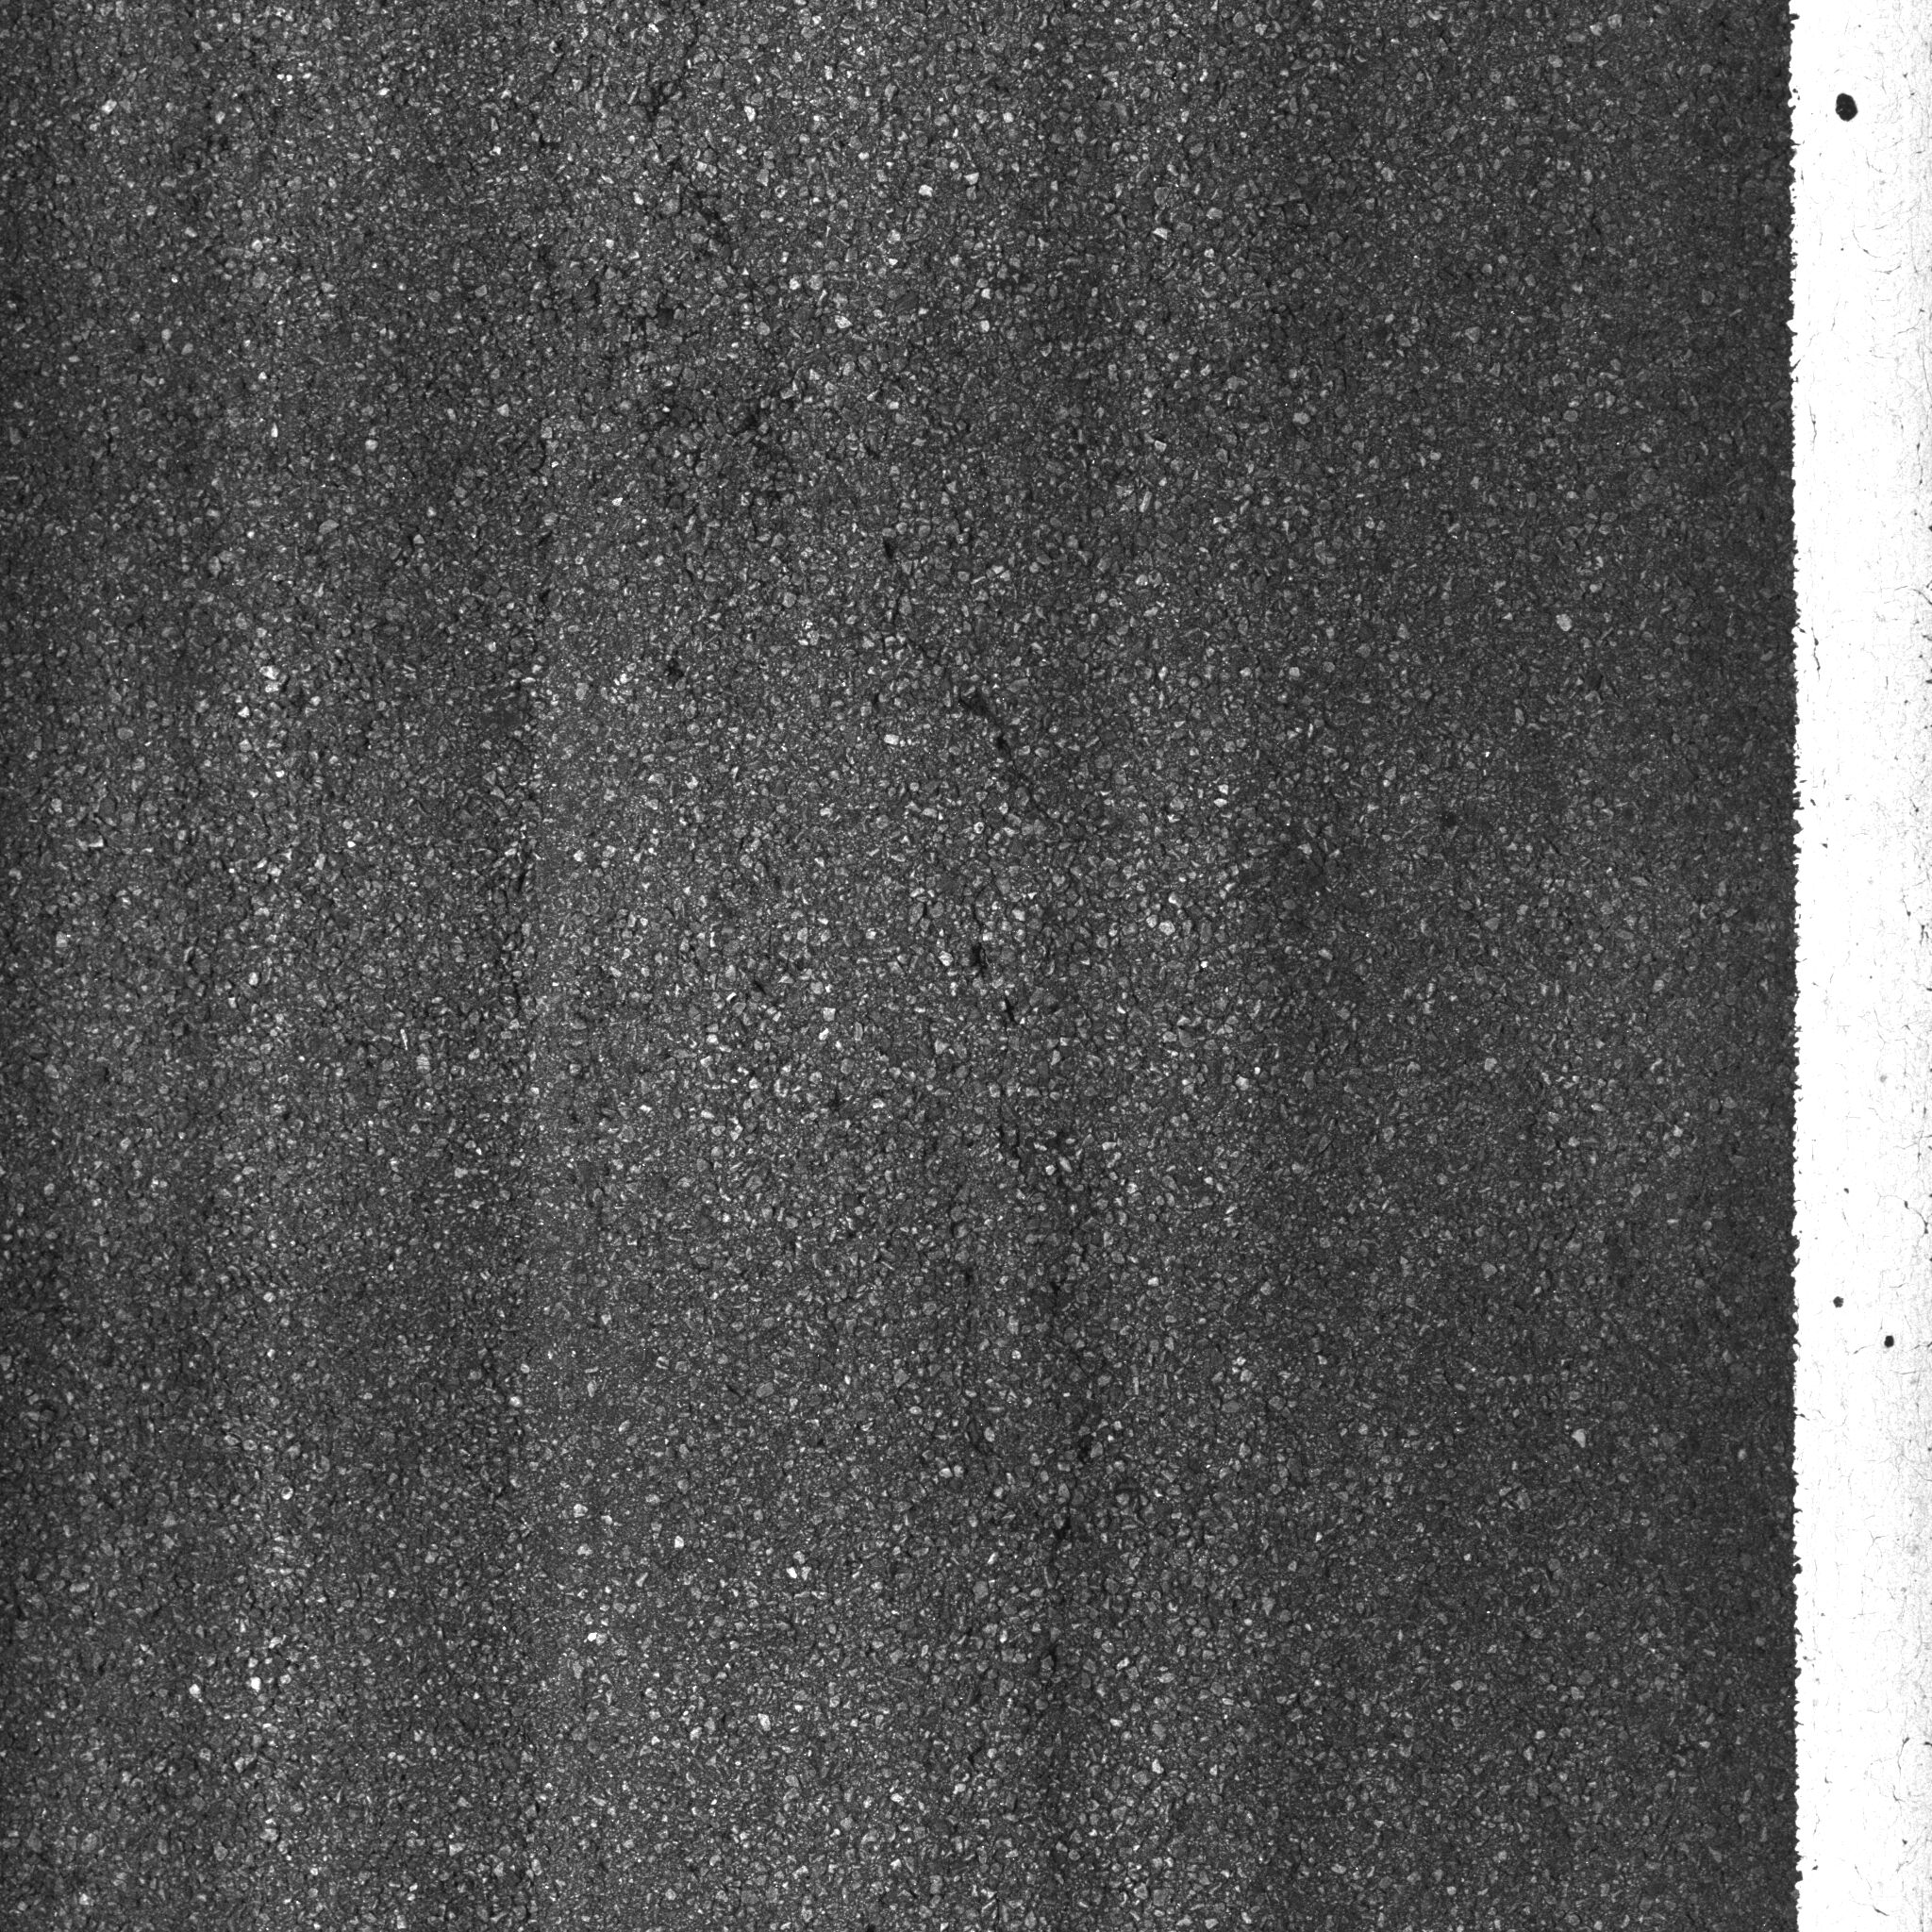longitudinal: (837, 370, 1173, 1831)
